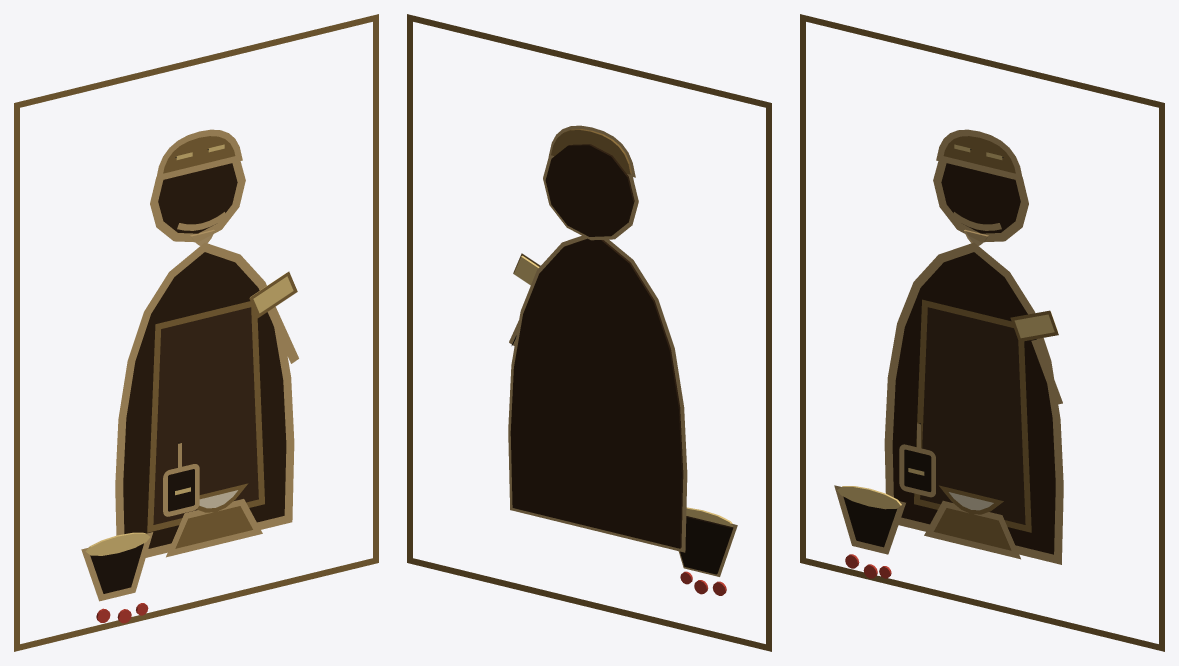
Rendered from npc-yuvelir.glb.
3 renders of one model, left to right at view 1: azimuth 30°, elevation 25°; view 2: azimuth 150°, elevation 25°; view 3: azimuth 330°, elevation 25°, orthographic.
Visible parts, largest first — view 1: npc-yuvelir; view 2: npc-yuvelir; view 3: npc-yuvelir.
Boxes of the visible parts, x1,y1,x2,y2 form: npc-yuvelir: (14,14,378,651); npc-yuvelir: (407,14,771,651); npc-yuvelir: (800,14,1164,651).
Bounding box in the file's own units: 1.14 × 1.64 × 0.1429.
